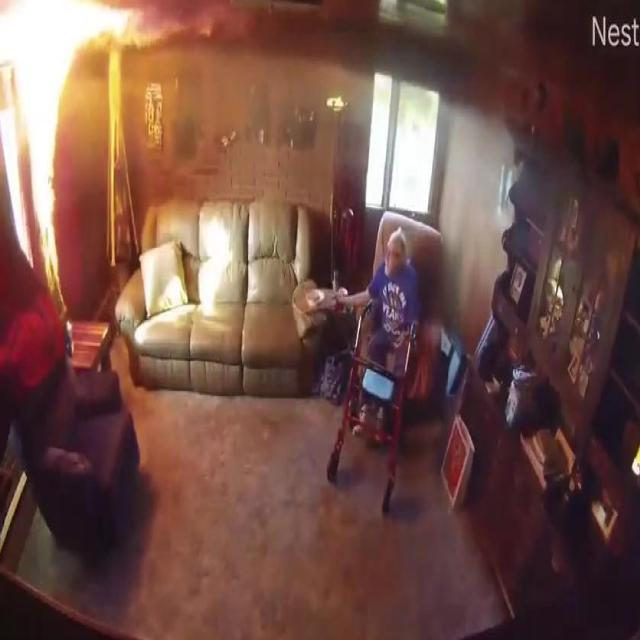smoke: (12, 4, 60, 286), (0, 0, 147, 60)
